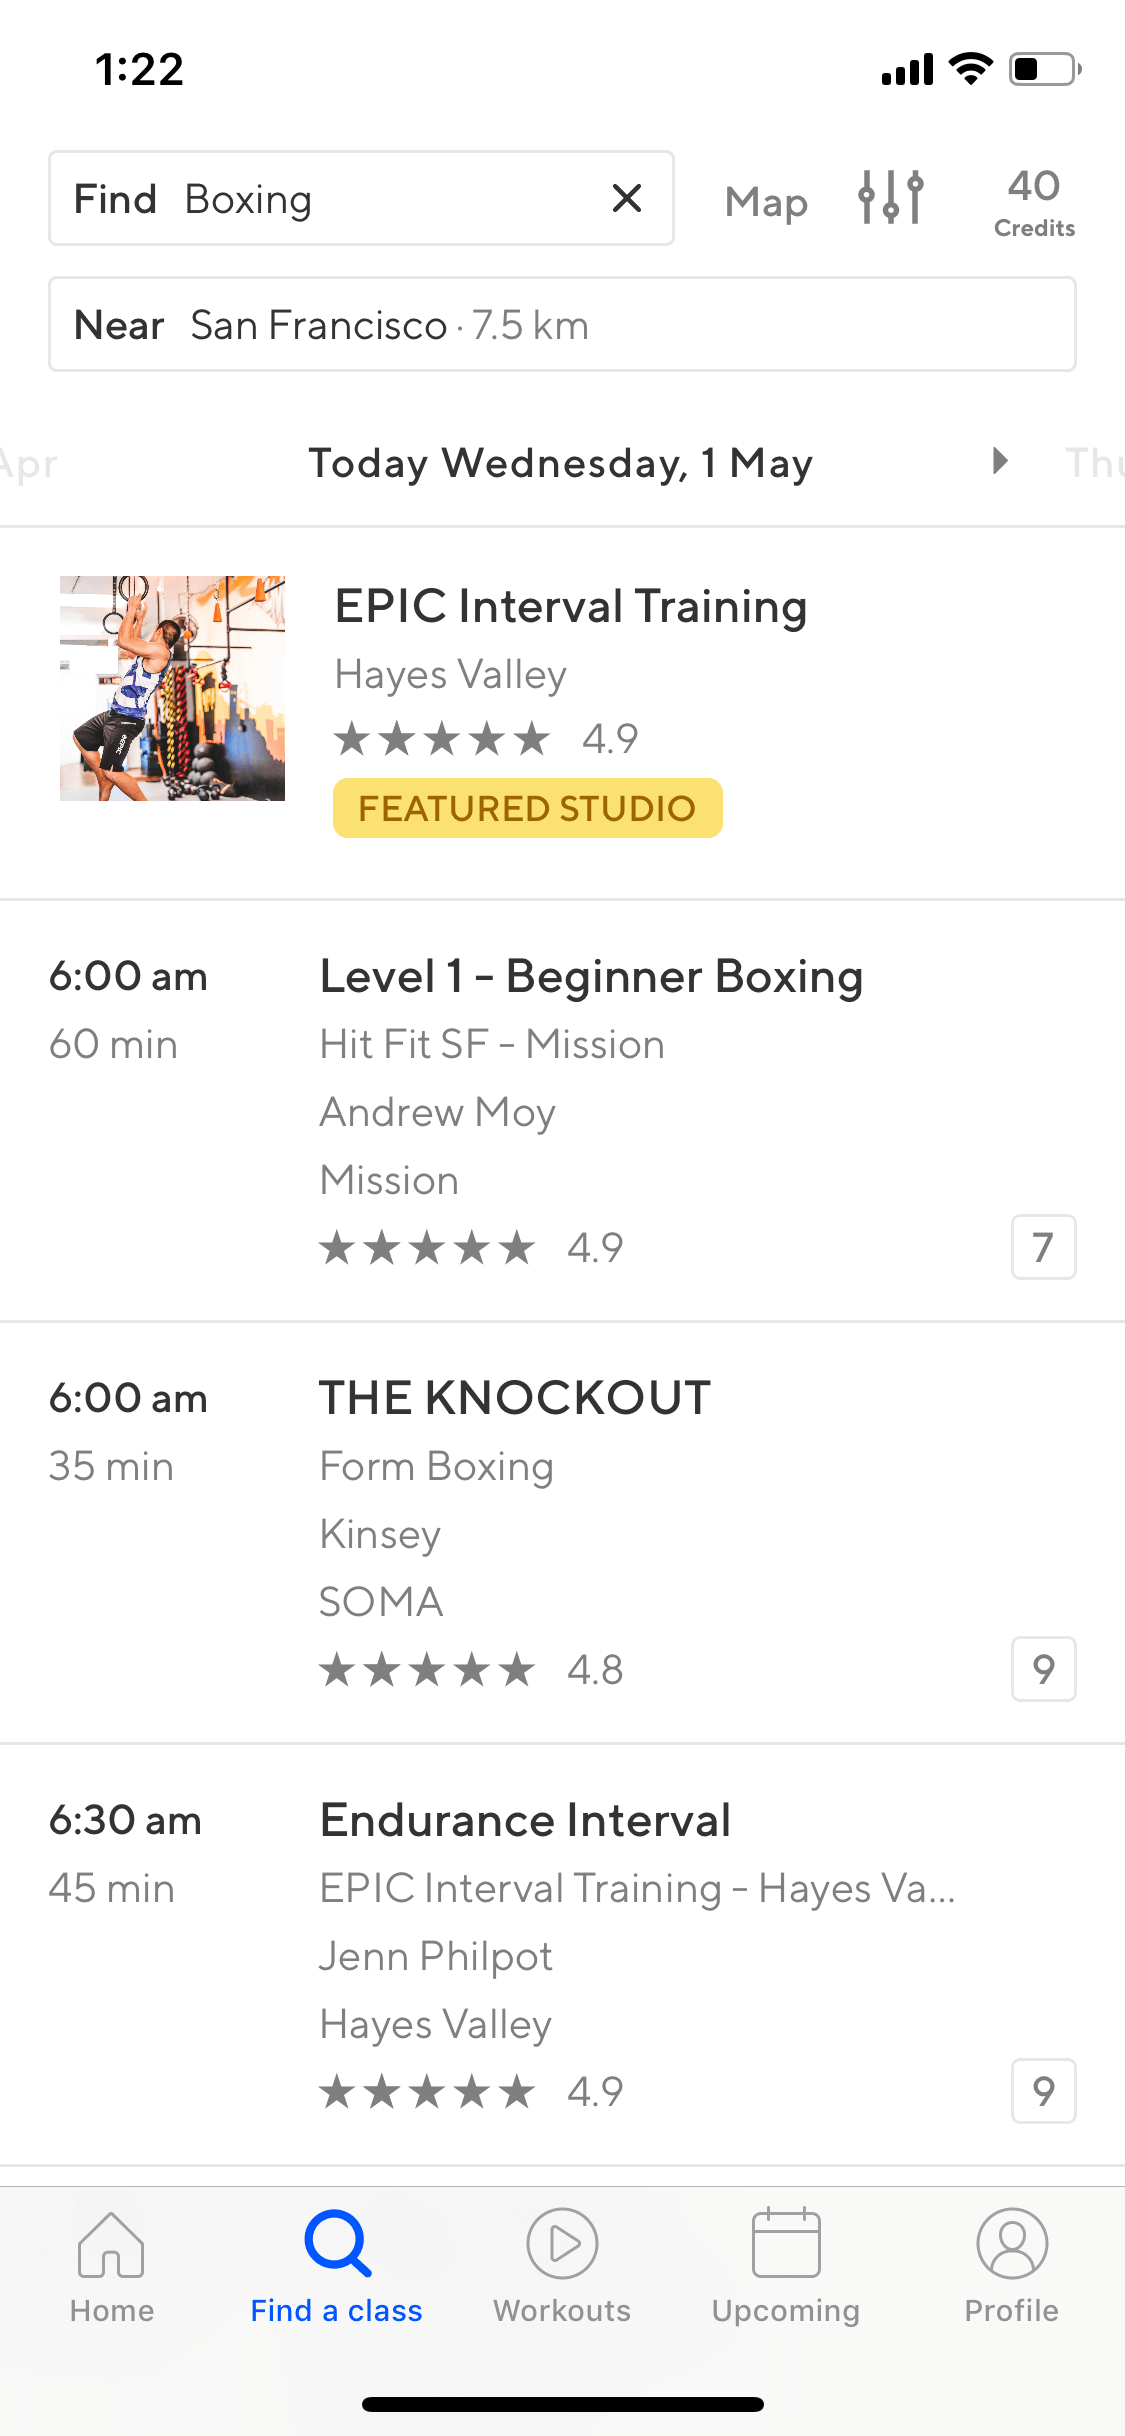Buttons: (967, 137, 1091, 256), (696, 144, 824, 252), (853, 146, 939, 252)
Rating: (308, 2058, 653, 2133), (320, 698, 670, 769), (311, 1631, 650, 1704), (298, 1220, 642, 1272)
